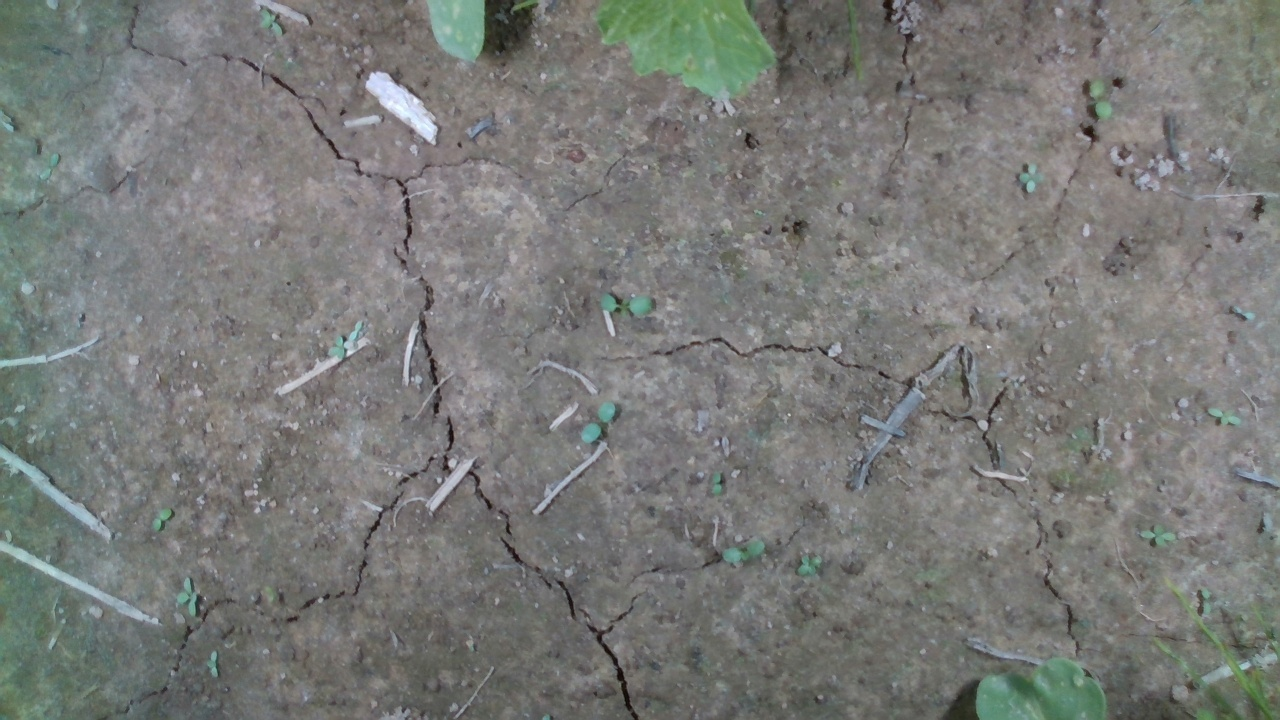weed: (579, 401, 616, 445), (598, 293, 653, 317), (1087, 77, 1113, 122), (721, 538, 765, 564), (173, 576, 199, 619), (1139, 522, 1179, 548), (1015, 160, 1038, 196), (1207, 406, 1241, 428), (793, 553, 824, 577), (150, 507, 172, 532), (1198, 586, 1212, 617), (206, 651, 218, 679), (711, 469, 722, 497)
